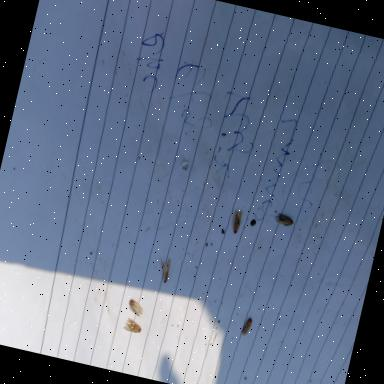pbw: (229, 208, 244, 236), (156, 258, 172, 284), (127, 299, 146, 319), (122, 318, 144, 334), (276, 214, 296, 228), (240, 317, 253, 337)
